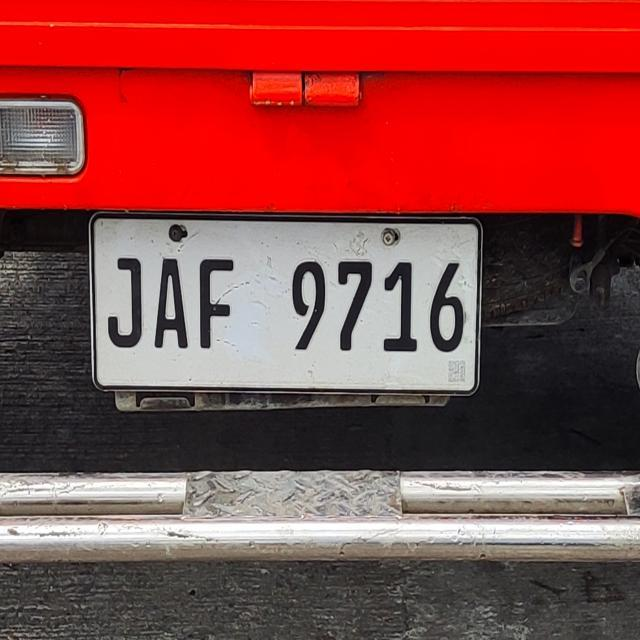LicensePlate: (84, 208, 486, 403)
